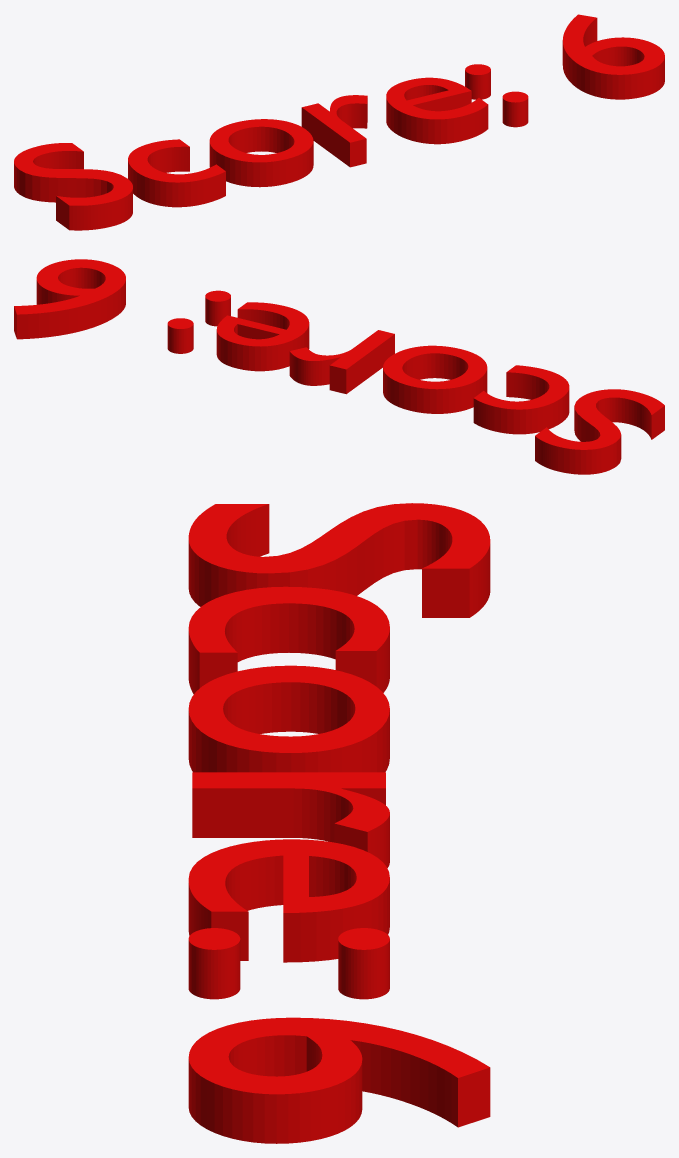
File: ScoreCounter-6.obj
3 views of the same model, one above another, from view 1: azimuth 30°, elevation 25°; view 2: azimuth 150°, elevation 25°; view 3: azimuth 270°, elevation 25° (orthographic). The views are drawn at different scales.
Visible parts, largest first — view 1: Text.006_Text.009; view 2: Text.006_Text.009; view 3: Text.006_Text.009.
Part boxes in pixels (<box>): Text.006_Text.009: <box>14,14,664,230</box>; Text.006_Text.009: <box>14,259,664,474</box>; Text.006_Text.009: <box>188,503,490,1143</box>.
Size of the model in its own units: 3.25 by 0.1266 by 0.7.
